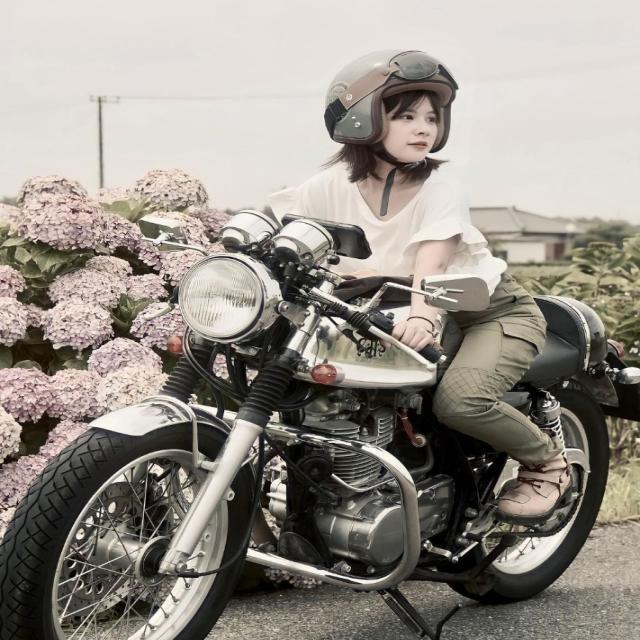helmet: (316, 44, 464, 176)
